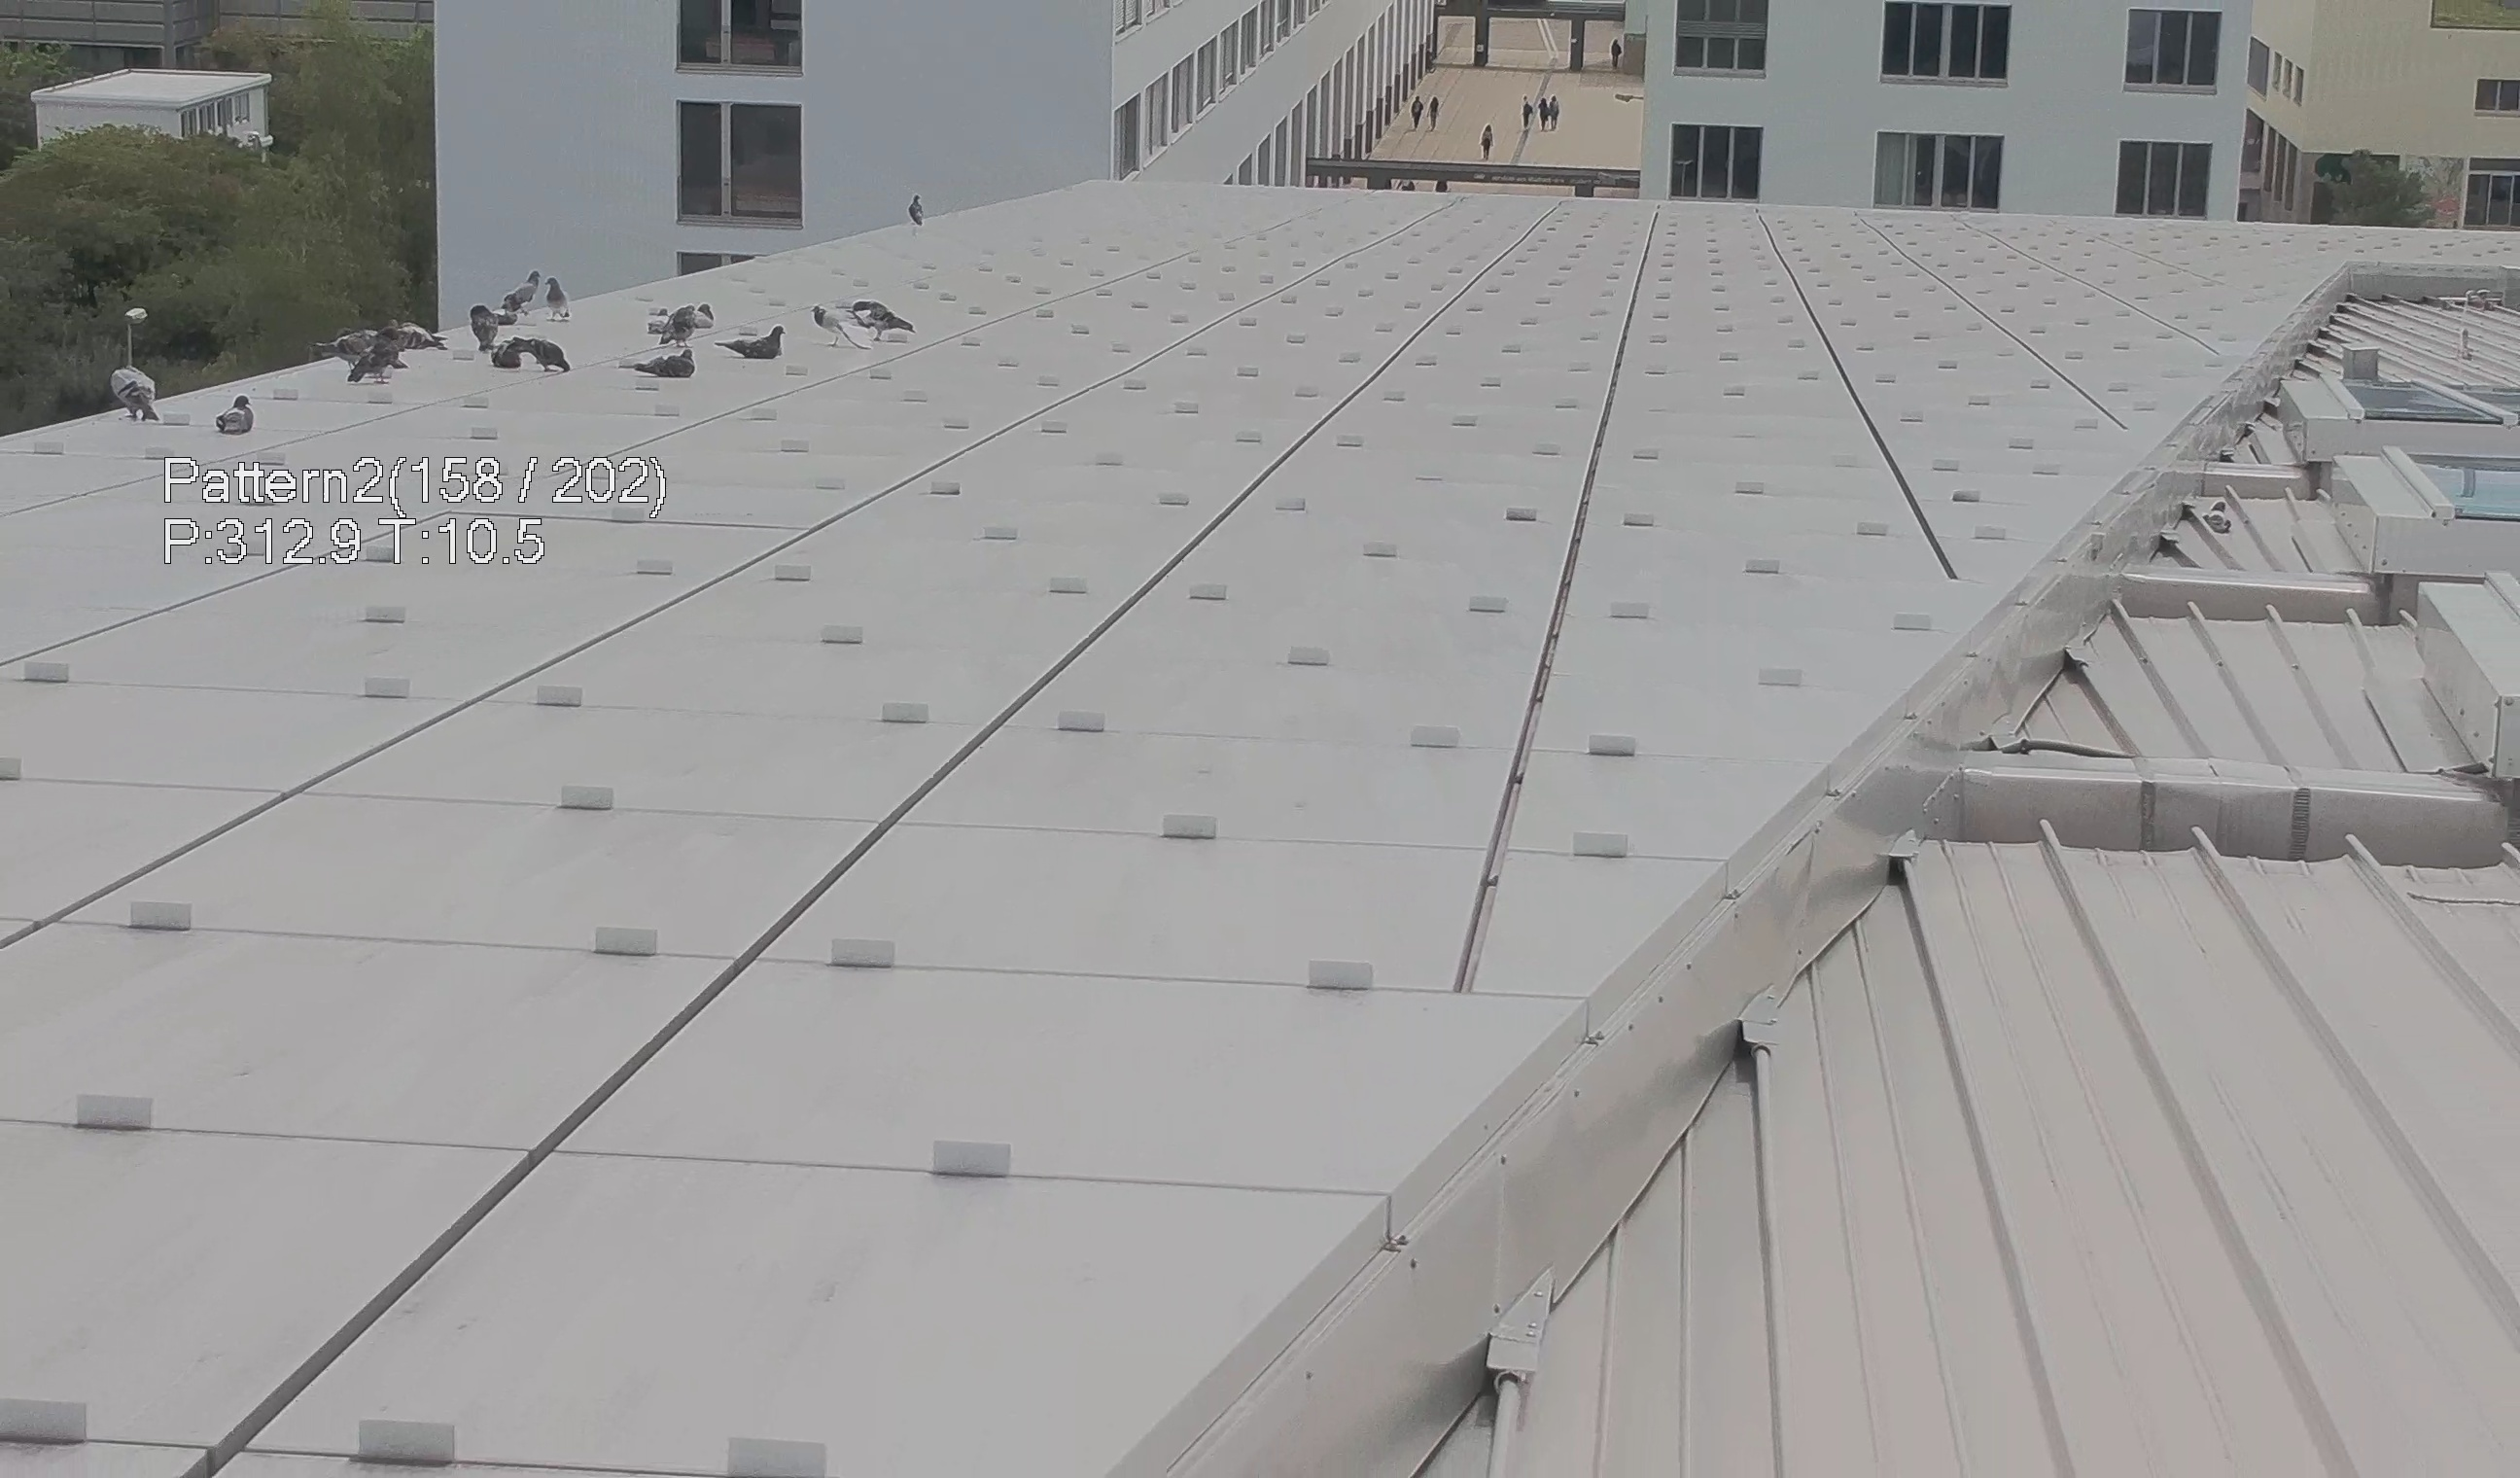Pigeon: (100, 352, 164, 421), (710, 320, 793, 368), (348, 333, 401, 394), (805, 301, 872, 348), (617, 347, 702, 384), (849, 290, 914, 338), (513, 333, 570, 380), (315, 326, 382, 364), (208, 391, 259, 440), (383, 317, 448, 354), (542, 273, 582, 324), (652, 303, 698, 347), (466, 301, 498, 352), (505, 266, 540, 310), (489, 336, 521, 371), (906, 187, 927, 234), (640, 306, 668, 334), (689, 301, 716, 327)
